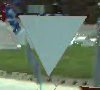Give way: (1, 3, 86, 83)
